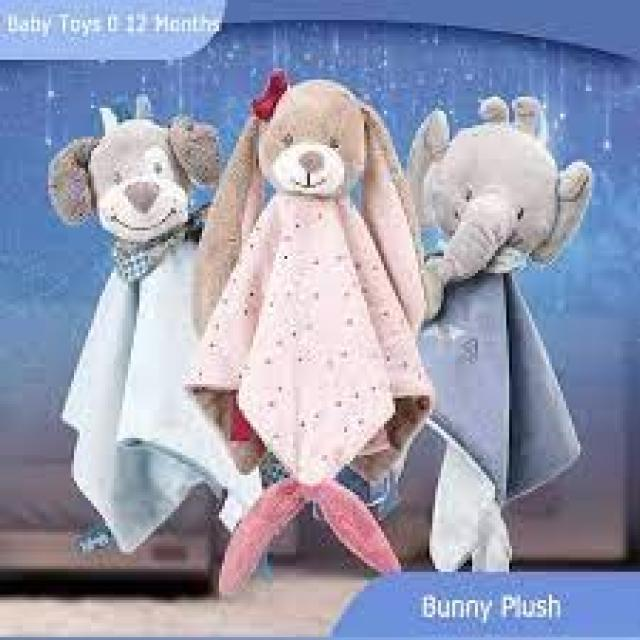soft-toy: (190, 81, 431, 571), (50, 111, 261, 552), (409, 99, 590, 573)
